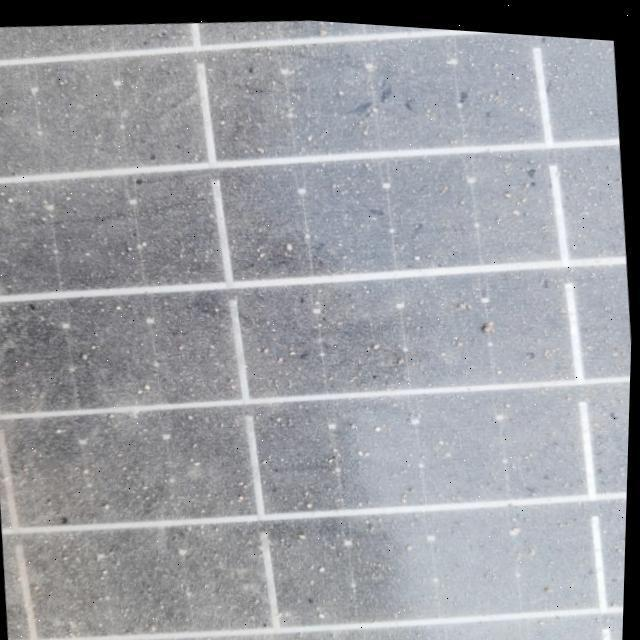Surface Contaminant: (0, 16, 608, 640)
